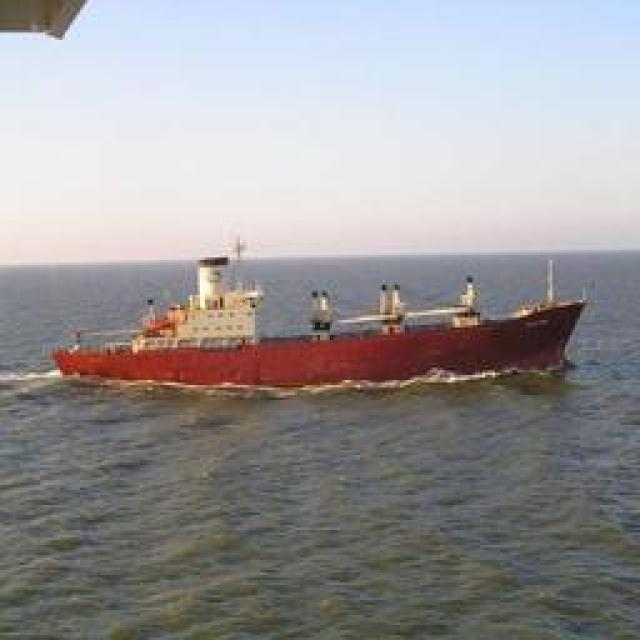ship2: (51, 224, 586, 387)
